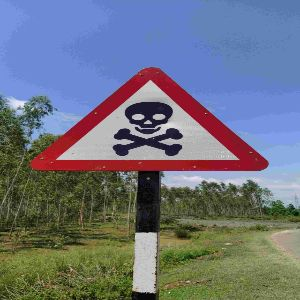Accident prone area: (24, 56, 277, 184)
